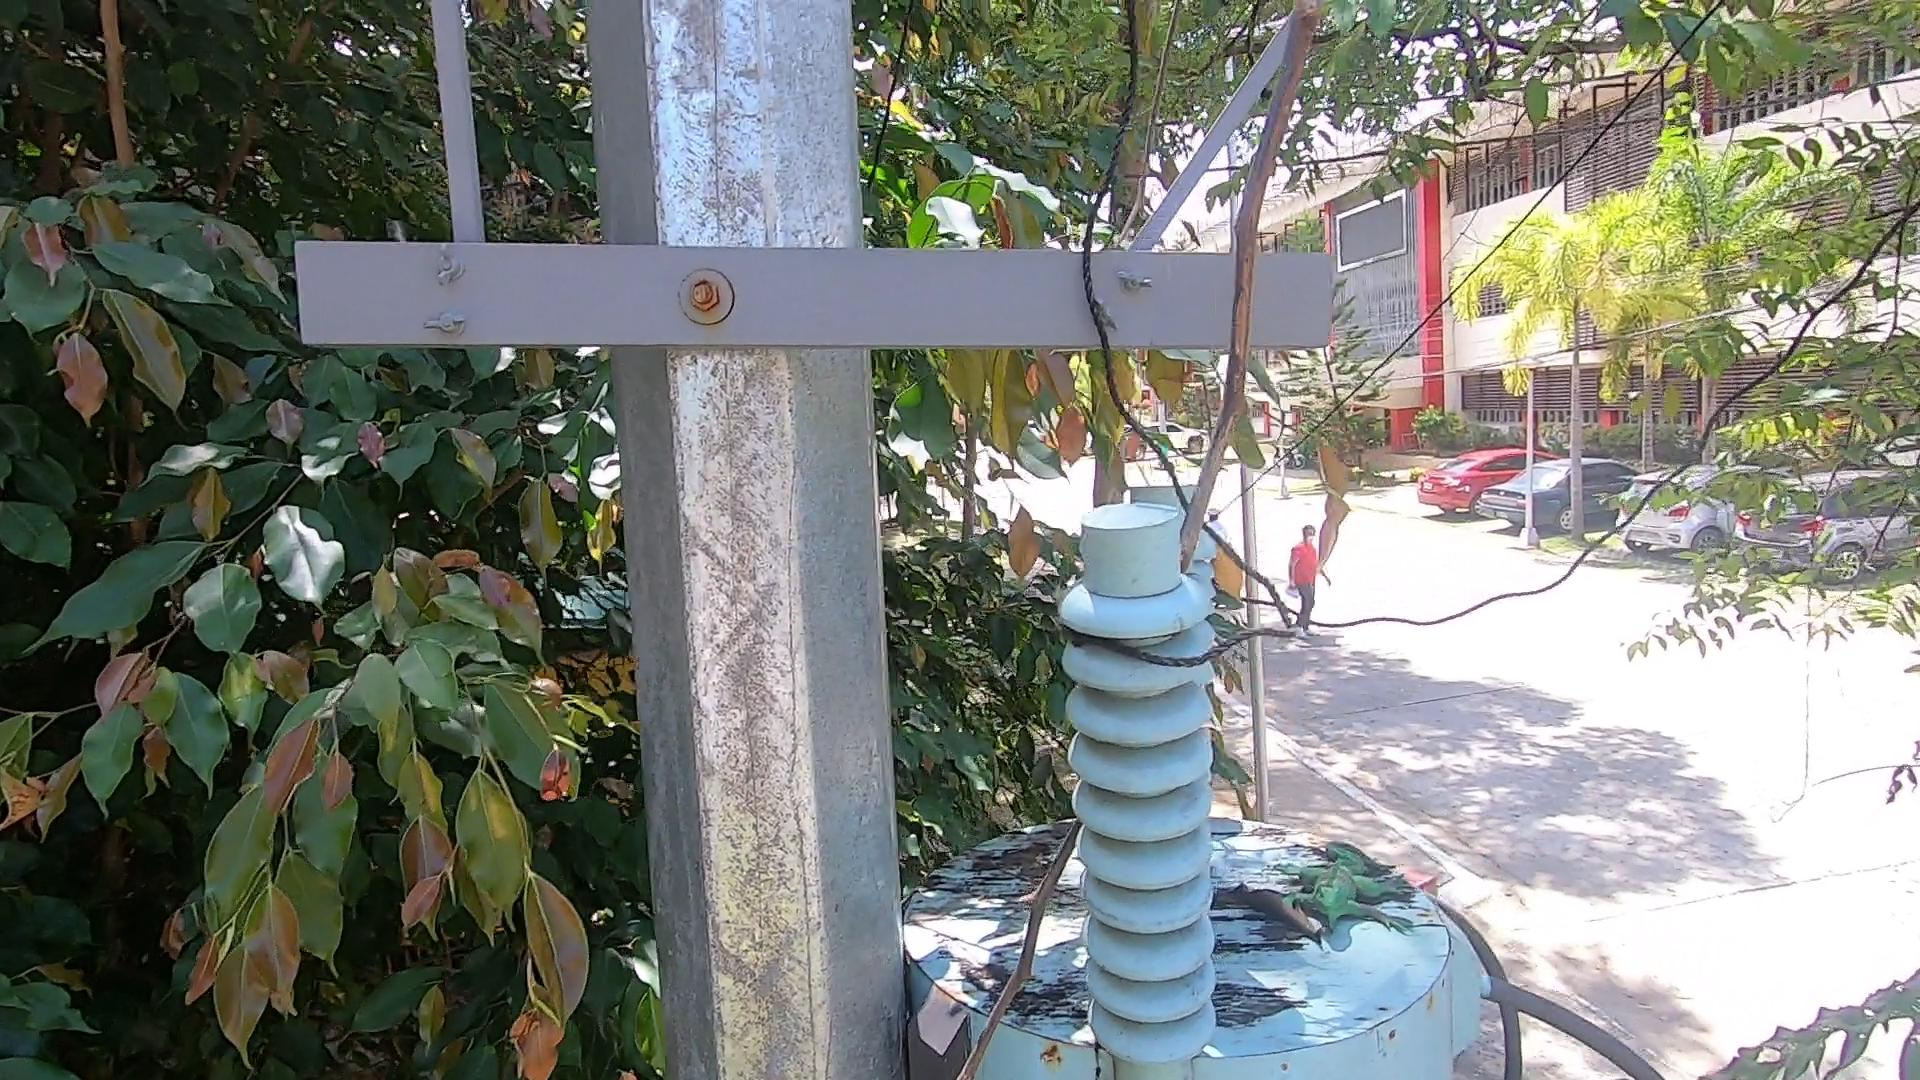branch with leaves: (1048, 398, 1308, 625)
leaf: (1226, 869, 1323, 957), (965, 943, 1036, 1015), (975, 853, 1054, 882)
tree branch: (897, 7, 1447, 1080)
